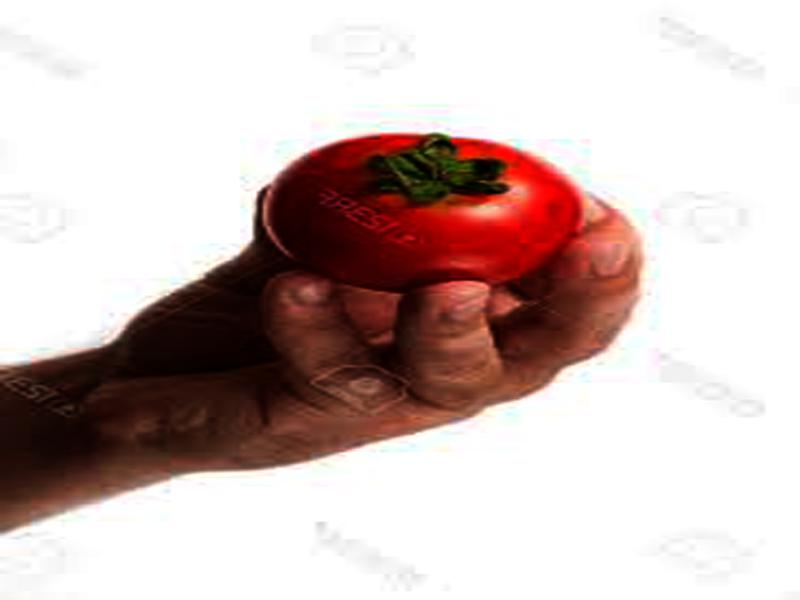Tomato: (266, 133, 580, 289)
